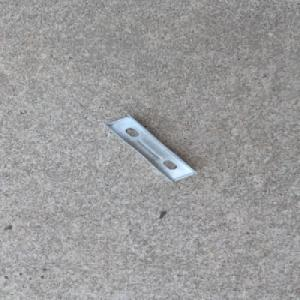ClampPart: (103, 114, 200, 183)
